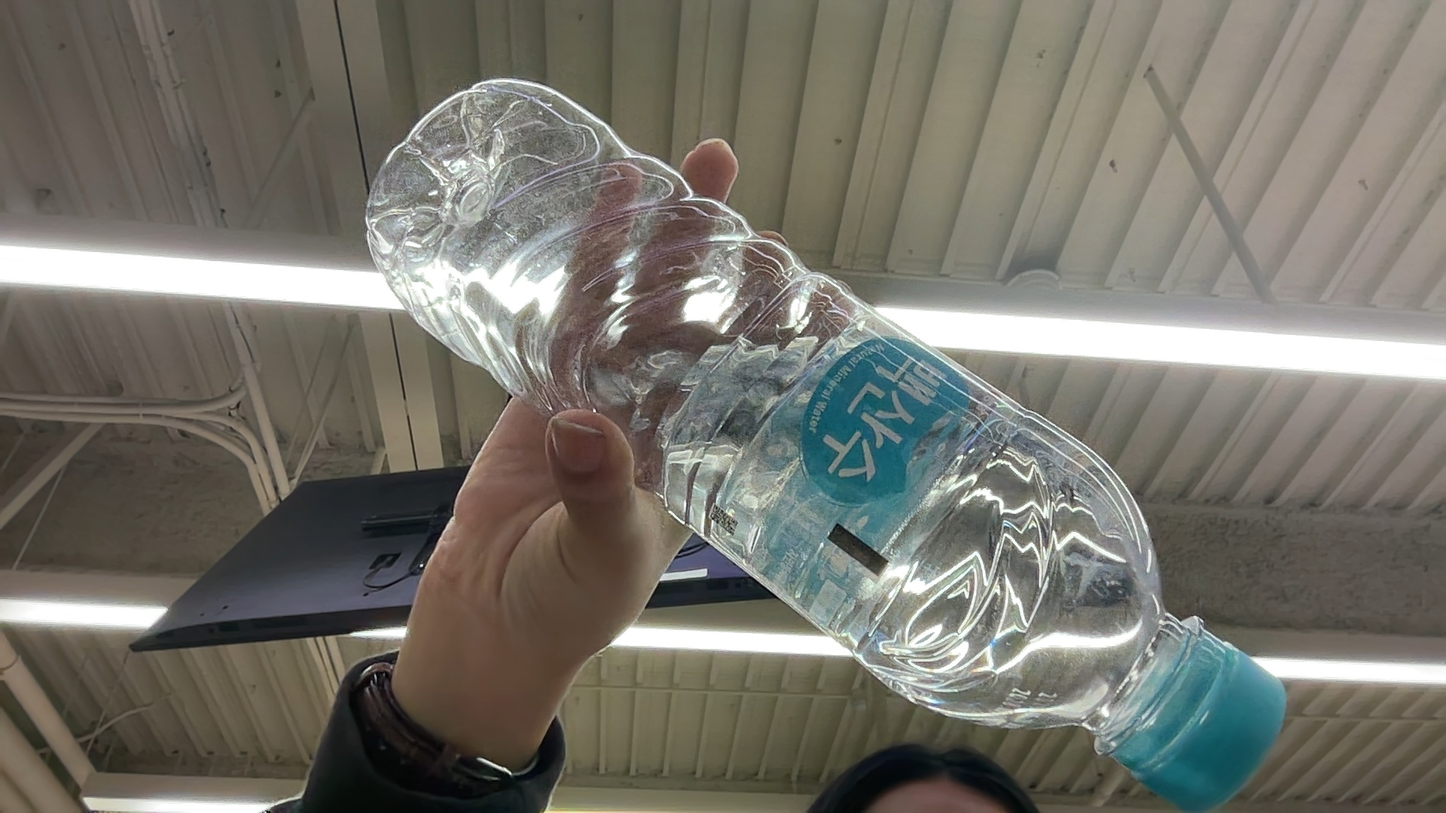Plastic: (347, 66, 1252, 813)
